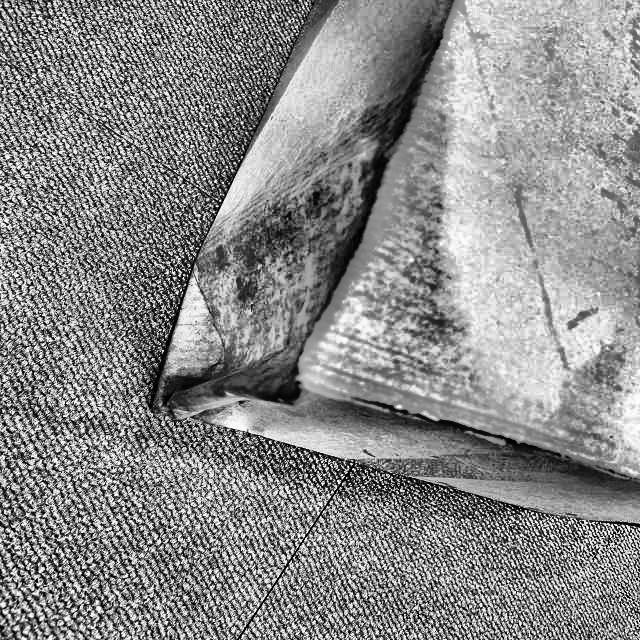box: (139, 0, 639, 526)
wet: (172, 55, 477, 442)
